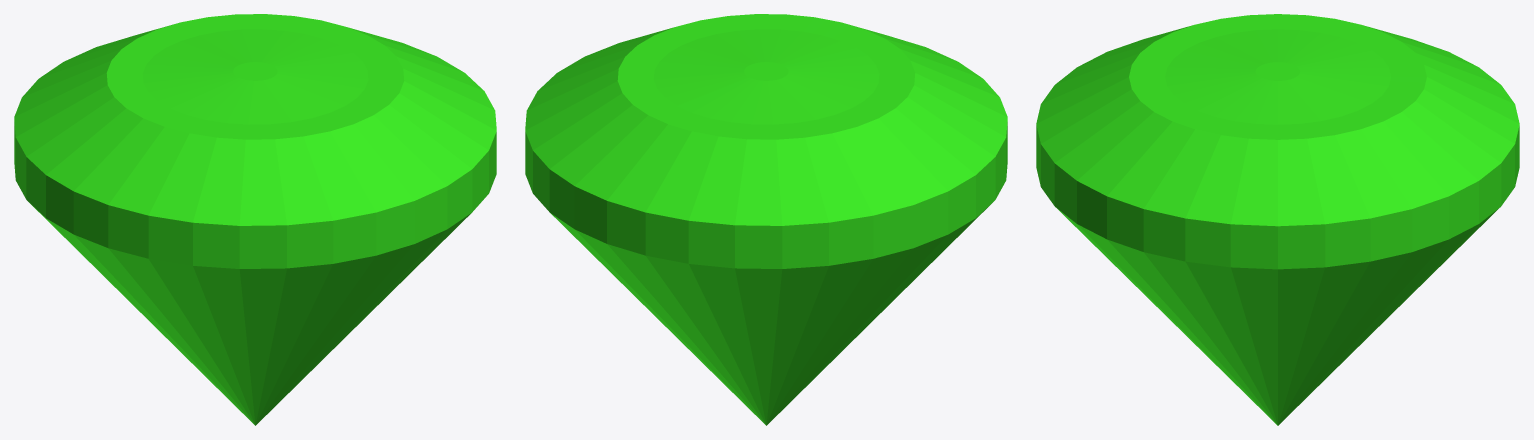
File: collectable.fbx
The picture shows the model from 3 angles, left to right: view 1: azimuth 30°, elevation 25°; view 2: azimuth 150°, elevation 25°; view 3: azimuth 270°, elevation 25°; orthographic projection.
Visible parts, largest first — view 1: Collectable; view 2: Collectable; view 3: Collectable.
Part boxes in pixels (x1,y1,x2,y2): Collectable: (14, 14, 496, 425); Collectable: (525, 14, 1007, 425); Collectable: (1036, 14, 1519, 425).
Size of the model in its own units: 31.71 by 25.64 by 31.71.
1 material, 1 textured.
